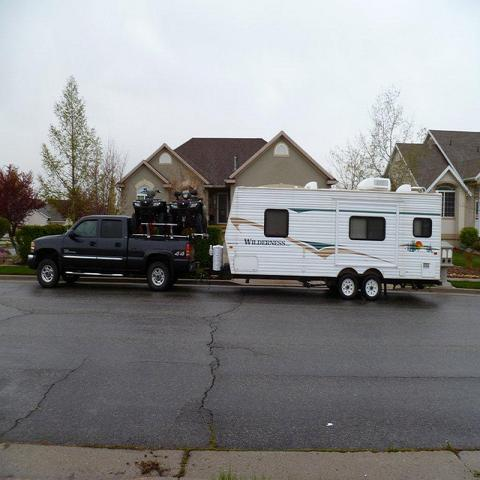motorcycle: (180, 183, 205, 234), (140, 187, 166, 223)
truck: (221, 185, 442, 301), (27, 214, 191, 291)
